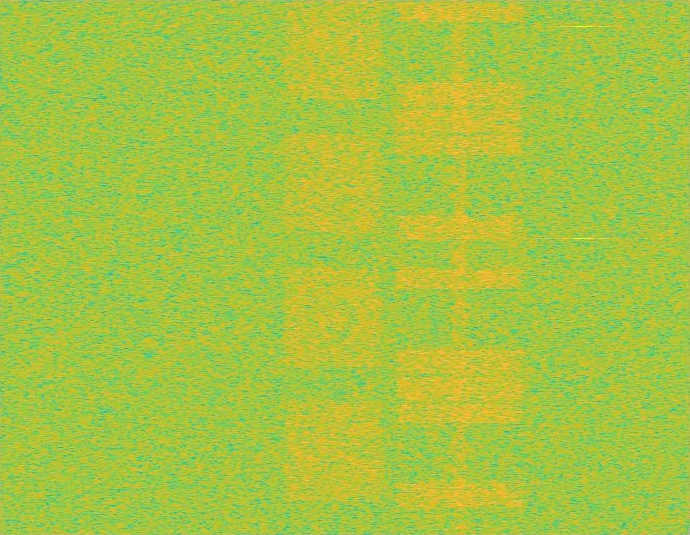5G: (281, 0, 385, 534)
DSSS: (450, 0, 469, 534)
LTE: (391, 0, 529, 534)
Radar: (576, 0, 590, 534)
